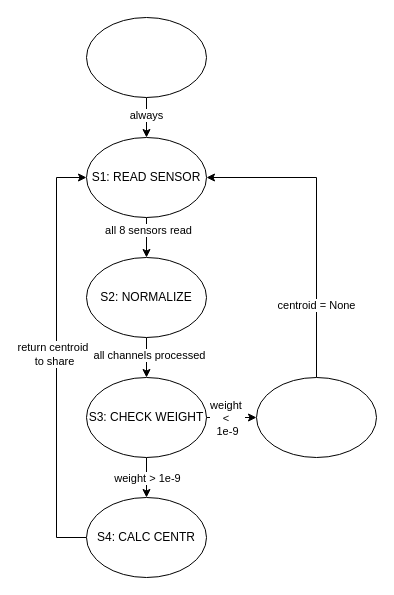
This 394x595 diagram has some shape labels left out. Here are the shapes that lost their labels. From the top down, the box of each, then its label:
(86, 16, 206, 98): S0: INIT
(256, 376, 376, 458): S5: NO LINE
